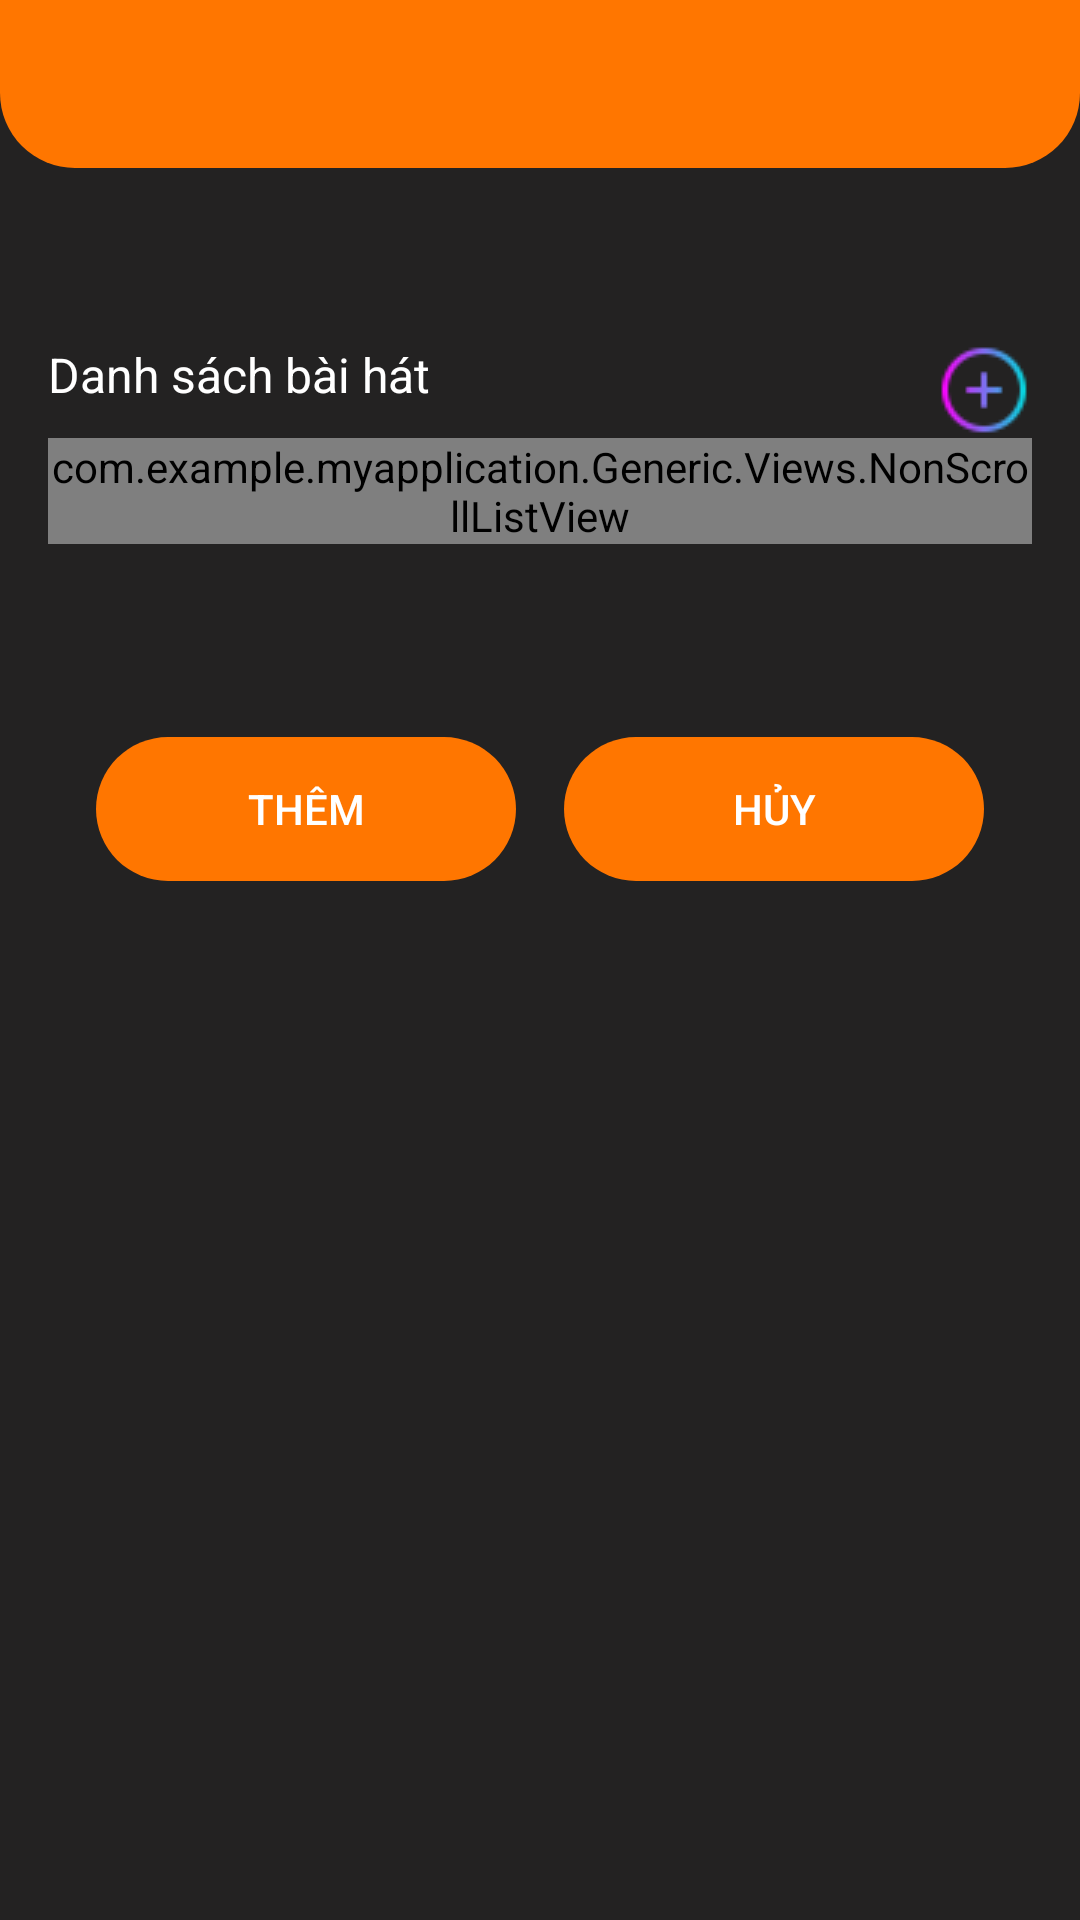

Where to tap for icons on this 1080 x 1920 app screen, as point (x, y):
insert: point (984, 390)
